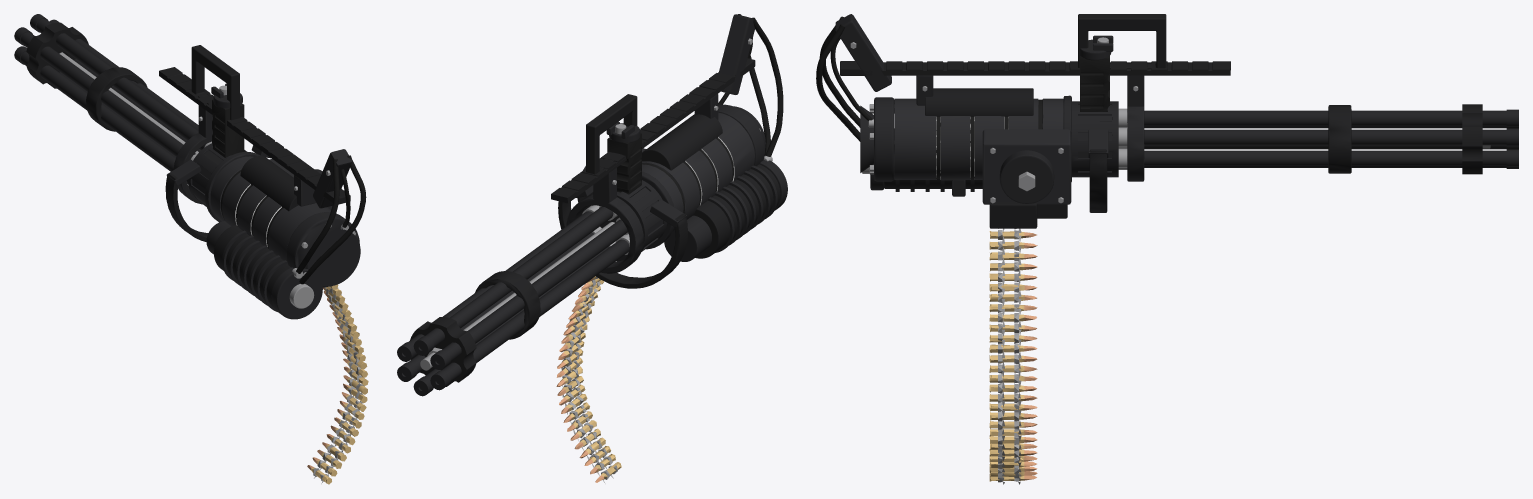
File: minigun.glb
3 views of the same model, side by side, from view 1: azimuth 30°, elevation 25°; view 2: azimuth 150°, elevation 25°; view 3: azimuth 270°, elevation 25° (orthographic). The views are drawn at different scales.
Parts seen in each view (by area): view 1: body, spin, mag; view 2: body, spin, mag; view 3: body, spin, mag.
Boxes of the visible parts, <box> form: body: <box>159,45,366,319</box>; spin: <box>14,14,246,206</box>; mag: <box>307,284,368,484</box>; body: <box>551,14,787,288</box>; spin: <box>397,180,666,396</box>; mag: <box>556,276,621,483</box>; body: <box>816,14,1230,228</box>; spin: <box>1072,101,1518,177</box>; mag: <box>989,228,1037,484</box>.
Bounding box in the file's own units: 0.2752 × 0.6927 × 1.
